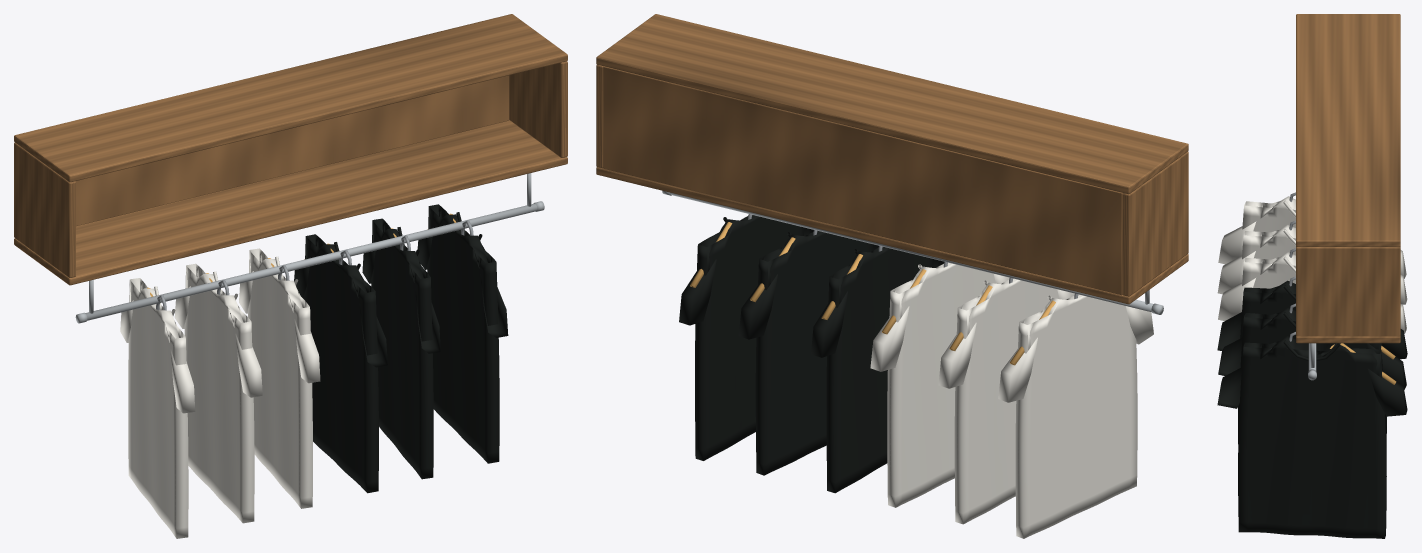
The model's file is fourtwenty-rack-display-v01.glb.
3 views of the same model, side by side, from view 1: azimuth 30°, elevation 25°; view 2: azimuth 150°, elevation 25°; view 3: azimuth 270°, elevation 25° (orthographic). The views are drawn at different scales.
Parts seen in each view (by area): view 1: RACK_TOP, RACK_BOTTOM, RACK_BACK, TSHIRT_04_BODY, TSHIRT_06_BODY, TSHIRT_02_BODY, TSHIRT_01_BODY, TSHIRT_03_BODY, TSHIRT_05_BODY, RACK_SIDE_LEFT, RACK_SIDE_RIGHT, METAL_BAR; view 2: RACK_BACK, RACK_TOP, TSHIRT_01_BODY, TSHIRT_05_BODY, TSHIRT_03_BODY, TSHIRT_02_BODY, TSHIRT_04_BODY, TSHIRT_06_BODY, RACK_SIDE_LEFT, RACK_BOTTOM, METAL_BAR, RACK_SIDE_RIGHT; view 3: TSHIRT_06_BODY, RACK_TOP, RACK_SIDE_RIGHT, TSHIRT_05_BODY, TSHIRT_04_BODY, TSHIRT_03_BODY, TSHIRT_01_BODY, TSHIRT_02_BODY, RACK_BOTTOM.
Part boxes in pixels (x1,y1,x2,y2): RACK_TOP: (14,14,567,182); RACK_BOTTOM: (14,120,567,285); RACK_BACK: (75,75,509,226); TSHIRT_04_BODY: (294,234,387,493); TSHIRT_06_BODY: (417,204,508,463); TSHIRT_02_BODY: (174,263,262,523); TSHIRT_01_BODY: (120,278,195,538); TSHIRT_03_BODY: (239,248,320,508); TSHIRT_05_BODY: (362,218,440,479); RACK_SIDE_LEFT: (14,142,75,277); RACK_SIDE_RIGHT: (509,61,567,157); METAL_BAR: (85,203,537,320); RACK_BACK: (603,66,1122,295); RACK_TOP: (596,14,1188,194); TSHIRT_01_BODY: (998,294,1153,538); TSHIRT_05_BODY: (738,231,878,475); TSHIRT_03_BODY: (870,262,1009,507); TSHIRT_02_BODY: (938,278,1074,524); TSHIRT_04_BODY: (811,247,944,493); TSHIRT_06_BODY: (679,215,813,460); RACK_SIDE_LEFT: (1122,151,1188,296); RACK_BOTTOM: (596,167,1188,304); METAL_BAR: (670,192,1153,311); RACK_SIDE_RIGHT: (596,64,603,168); TSHIRT_06_BODY: (1217,336,1407,538); RACK_TOP: (1296,14,1400,246); RACK_SIDE_RIGHT: (1296,246,1400,336); TSHIRT_05_BODY: (1218,307,1406,435); TSHIRT_04_BODY: (1217,280,1407,444); TSHIRT_03_BODY: (1218,252,1406,333); TSHIRT_01_BODY: (1218,196,1406,278); TSHIRT_02_BODY: (1217,225,1407,304); RACK_BOTTOM: (1296,336,1400,343).
Bounding box in the file's own units: 1.8 × 1.24 × 0.6367.
Materials: 6 (1 with a texture image).
